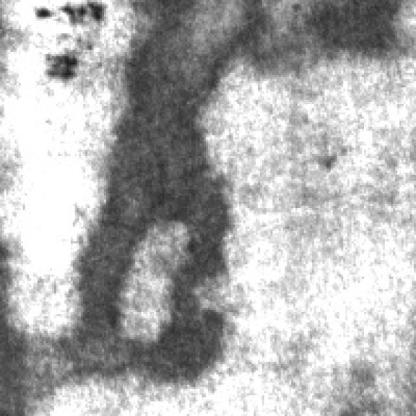patches: (73, 11, 272, 393), (291, 0, 416, 58), (2, 276, 54, 414)
